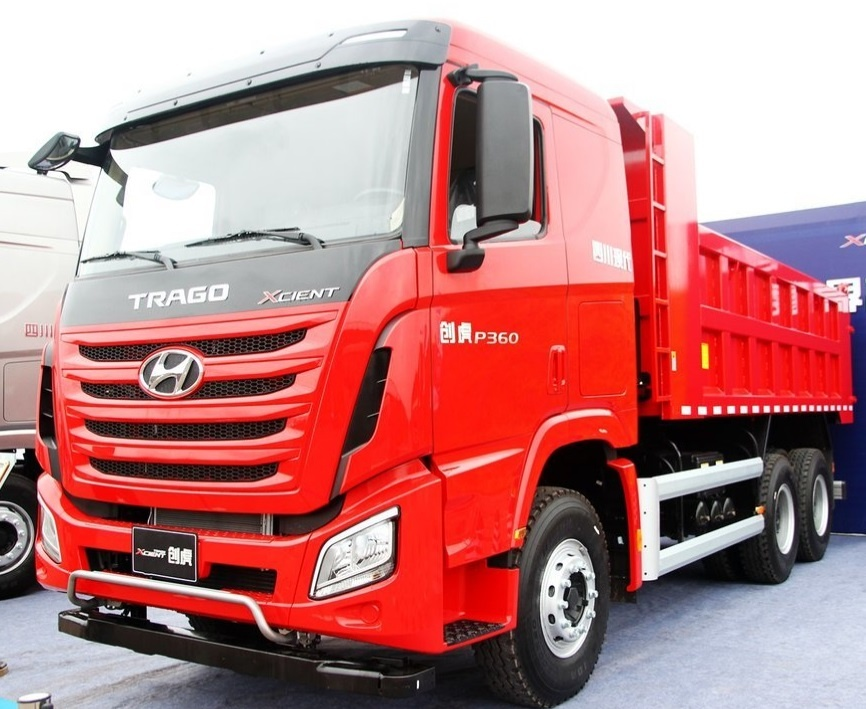heavy truck: (27, 39, 846, 696)
